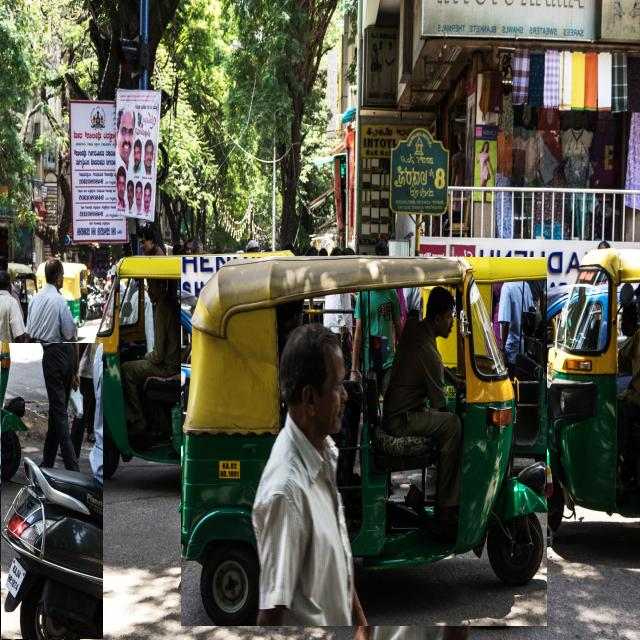autorickshaw: (181, 257, 546, 626), (79, 253, 262, 480), (541, 249, 640, 531), (60, 262, 88, 328)
motorcycle: (1, 343, 102, 639)
